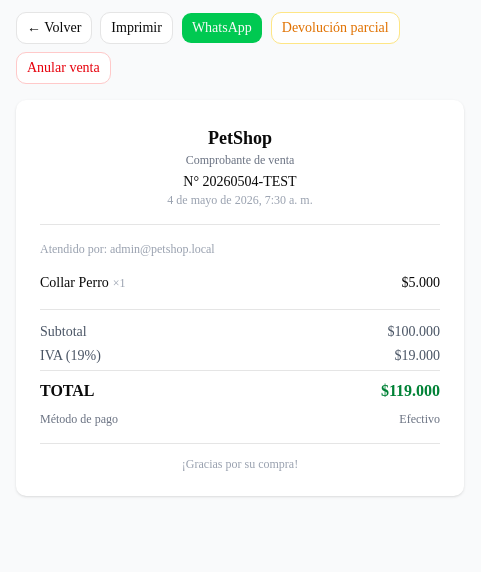
Test case: SalesTicketPage — anulación de venta (VT-01 a VT-08) › VT-05: anulación con error del servidor muestra mensaje en banner rojo
Expected: the text "Collar Perro" is shown, 40,275 -> 109,290
Note: Click "Anular venta" → se muestra confirmación
Click the button "Anular venta".
click(63, 68)  # box 16,52 -> 111,84
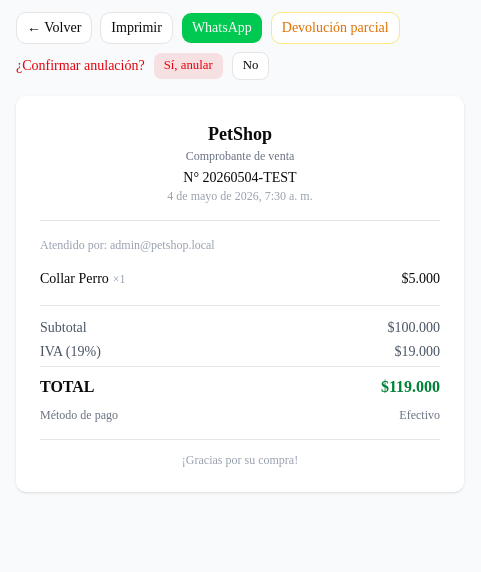
Note: Click "Sí, anular"
Click the button "Sí, anular".
click(188, 66)  # box 153,52 -> 224,80
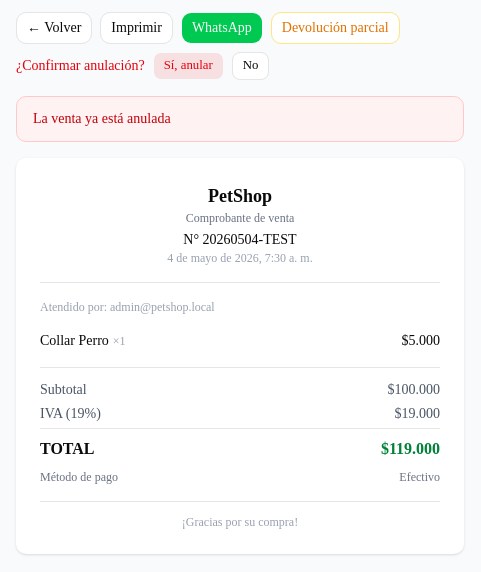
Result: the text "La venta ya está anulada" is shown at 33,111 -> 171,126
